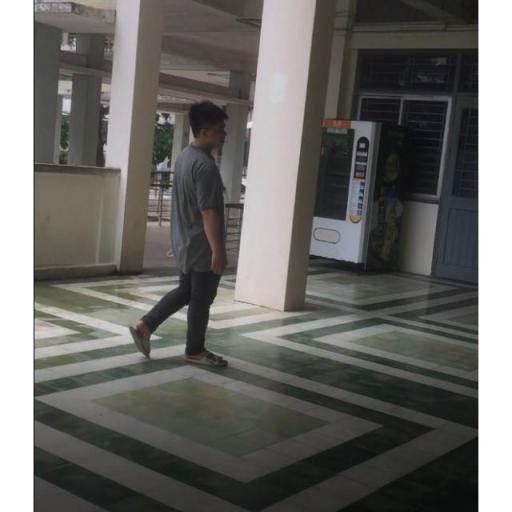Running: (126, 92, 240, 375)
